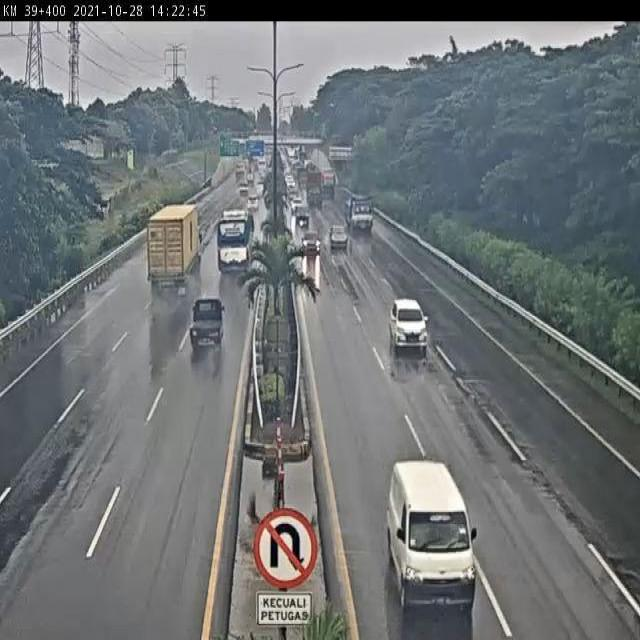big bus: (217, 205, 256, 276)
truck-l-: (345, 192, 376, 235)
truck-xl-: (144, 204, 206, 296)
